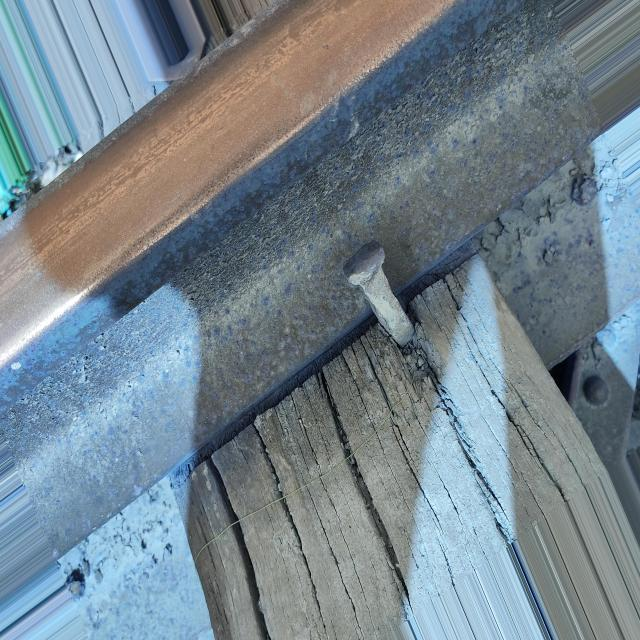Good Fasteners: (343, 241, 414, 346)
